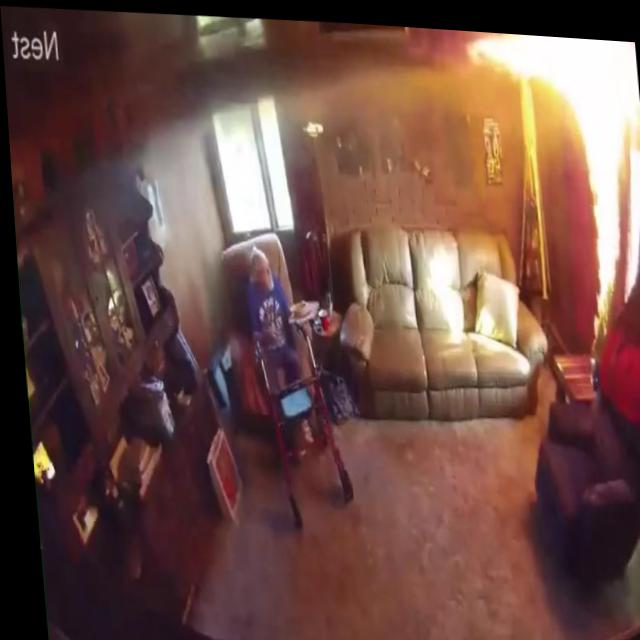fire: (560, 29, 633, 326), (466, 24, 635, 92)
